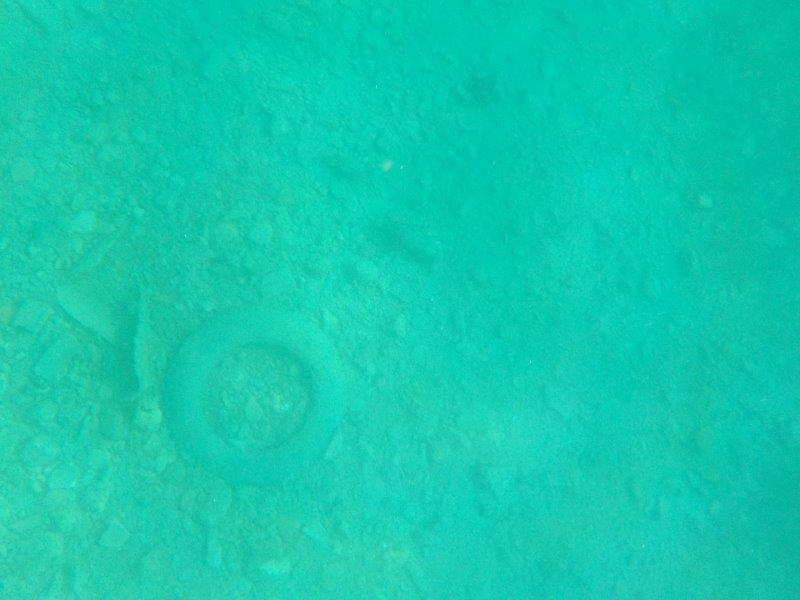tire: (158, 303, 354, 494)
